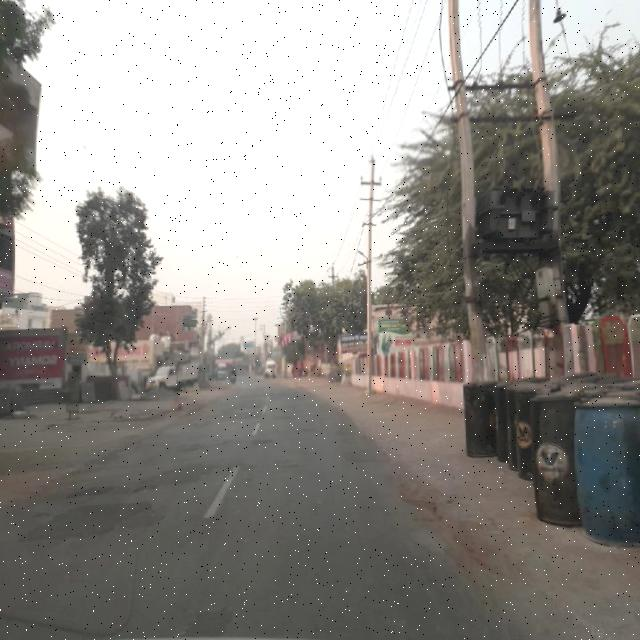D40: (396, 516, 454, 556)
